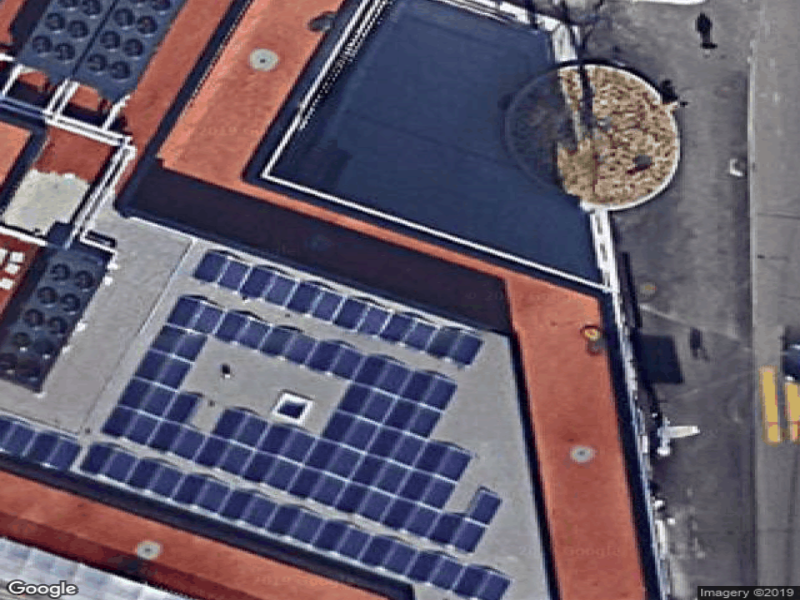pv: (9, 250, 515, 600)
